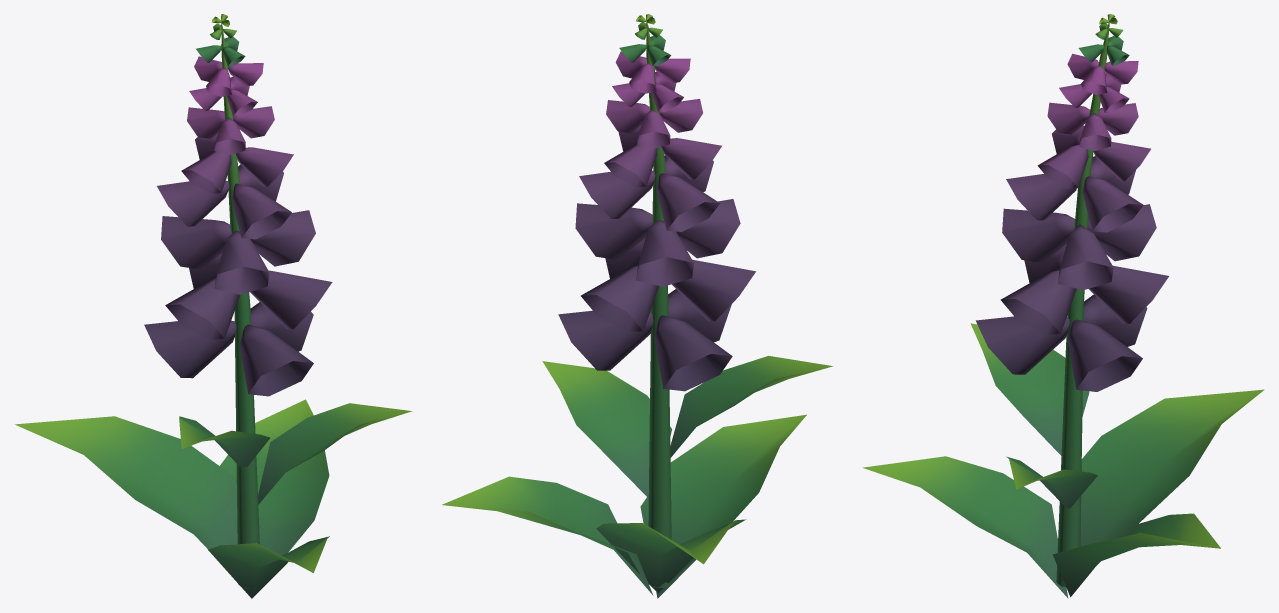
Rendered from Flower_Decoration_06.fbx.
3 renders of one model, left to right at view 1: azimuth 30°, elevation 25°; view 2: azimuth 150°, elevation 25°; view 3: azimuth 270°, elevation 25°, orthographic. The views are drawn at different scales.
Visible parts, largest first — view 1: Flower.025; view 2: Flower.025; view 3: Flower.025.
Part boxes in pixels (x1,y1,x2,y2): Flower.025: (15,14,412,598); Flower.025: (442,14,832,598); Flower.025: (862,14,1264,598).
Size of the model in its own units: 167 by 331 by 209.
